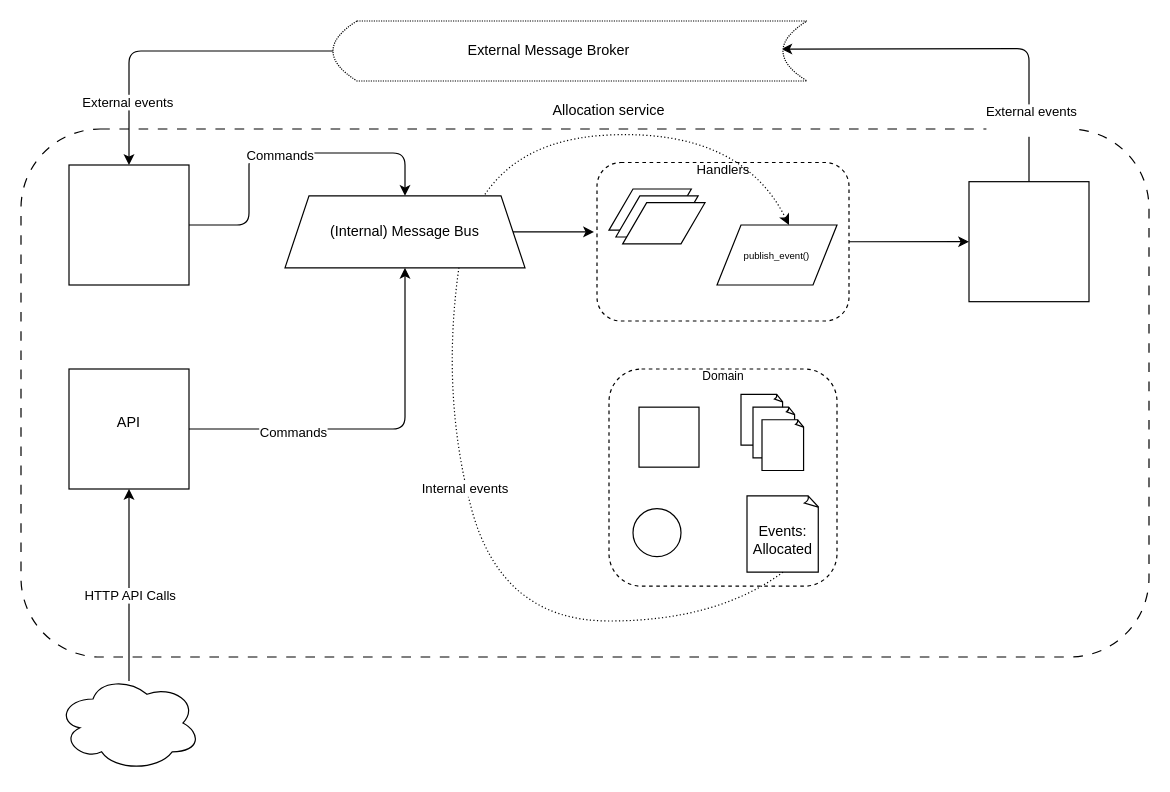
Image size: 1170x792. Some labels were removed from this diagram. The centre of each missing label's shape, as x and y in pixels:
"EventConsumer" belongs at pixel 128 224.
"EventPublisher" belongs at pixel 1028 241.
